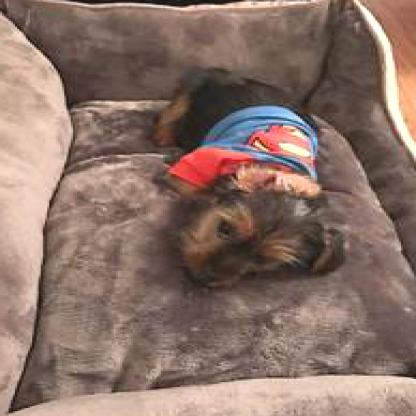dog: (148, 71, 345, 289)
